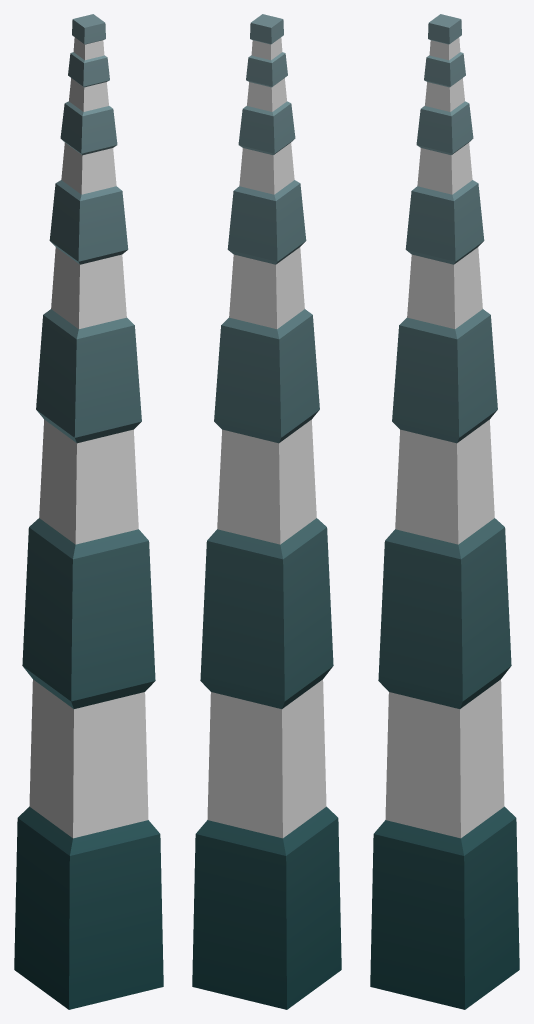
The picture shows the model from 3 angles, left to right: view 1: azimuth 30°, elevation 25°; view 2: azimuth 150°, elevation 25°; view 3: azimuth 330°, elevation 25°; orthographic projection.
Visible parts, largest first — view 1: Cube.138; view 2: Cube.138; view 3: Cube.138.
Boxes of the visible parts, x1,y1,x2,y2 form: Cube.138: (14,14,163,1009); Cube.138: (192,14,341,1009); Cube.138: (370,14,519,1009).
Size of the model in its own units: 2.68 by 25.89 by 2.68.
